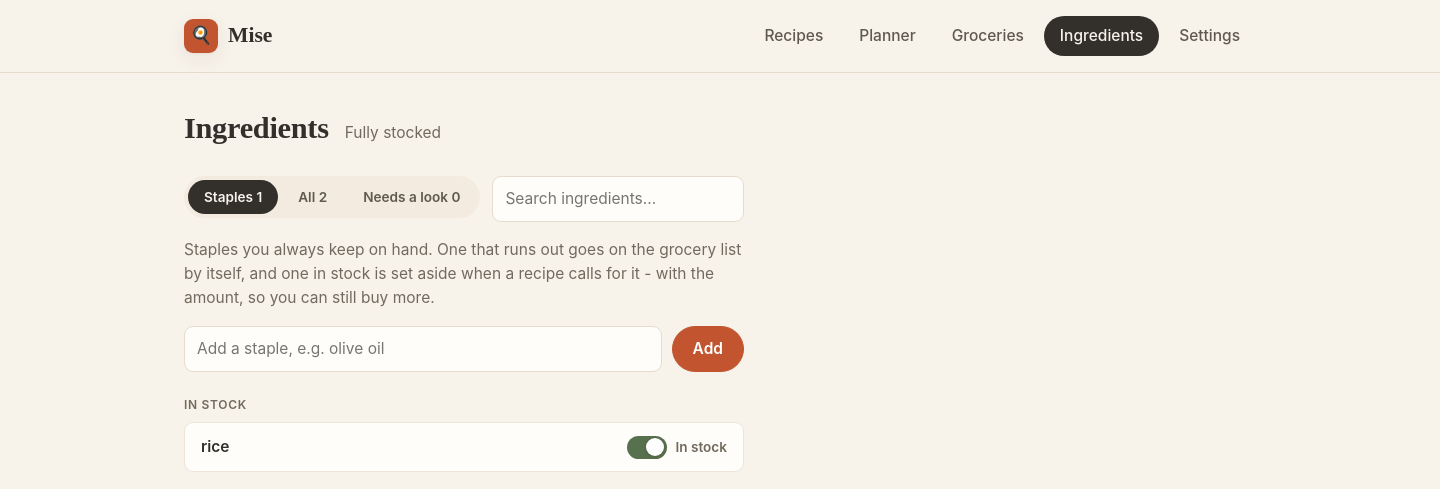
IngredientsPage: views › opens on Staples and switches to All, remembering the choice
Expected: the link "rice" is shown, [201, 437, 230, 456]
Click the button "All 2": (313,197) [282, 180, 343, 214]
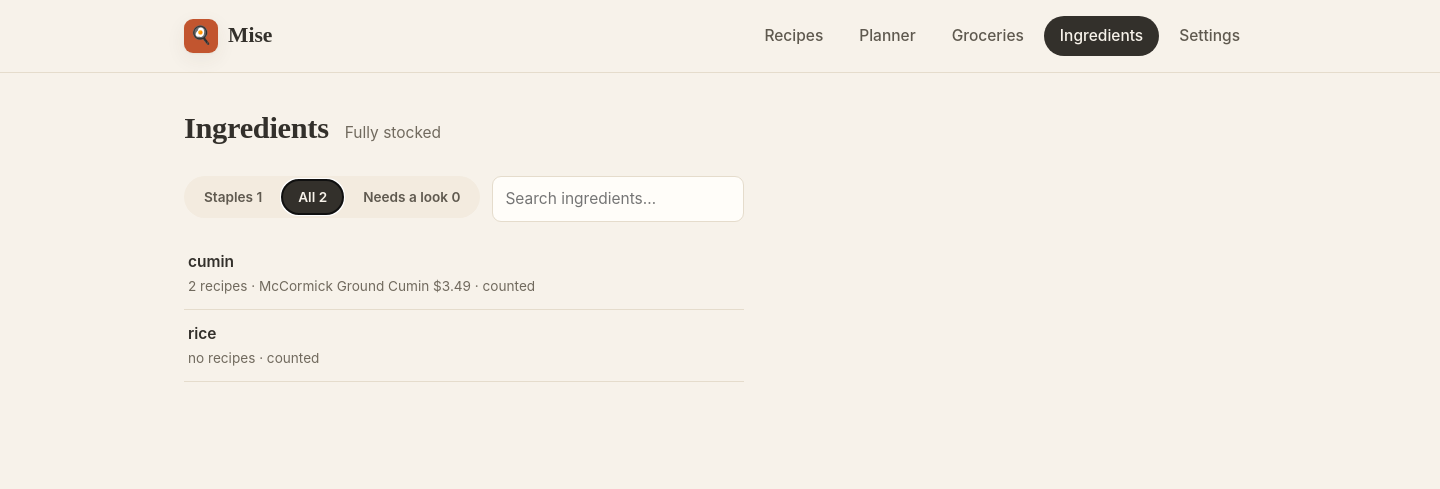
Expected: the link "cumin 2 recipes · McCormick Ground Cumin $3.49 · counted" is shown, [184, 238, 744, 310]
